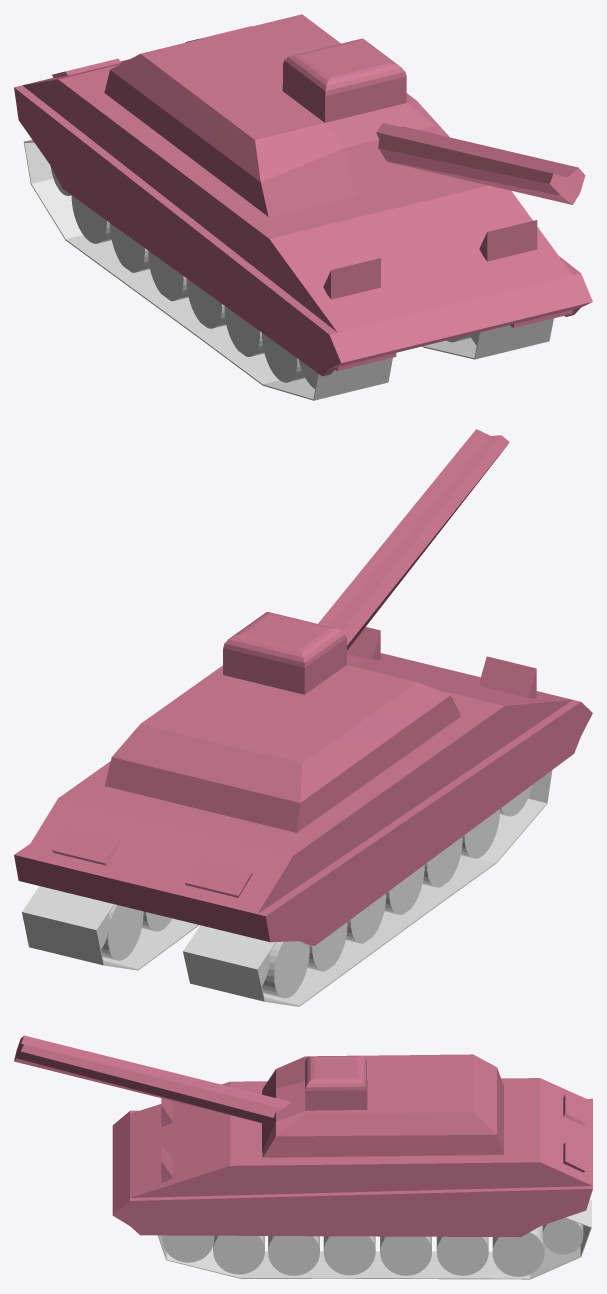
Rendered from Tank1.fbx.
The picture shows the model from 3 angles, top to bottom: view 1: azimuth 30°, elevation 25°; view 2: azimuth 150°, elevation 25°; view 3: azimuth 270°, elevation 25°; orthographic projection. The views are drawn at different scales.
Visible parts, largest first — view 1: Cube.010, Cube.009, Plane.005, Cylinder.011, Cylinder.010, Cube.007, Plane.004; view 2: Cube.010, Cube.009, Plane.005, Cylinder.011, Cylinder.010, Plane.004, Cube.008, Cube.007, Cylinder.009; view 3: Cube.010, Cube.009, Cylinder.009, Cylinder.011, Plane.004, Cube.008, Cube.007.
Boxes of the visible parts, x1,y1,x2,y2 form: Cube.010: (14,59,592,376); Cube.009: (104,14,449,216); Plane.005: (24,139,392,400); Cylinder.011: (376,123,585,204); Cylinder.010: (50,166,317,388); Cube.007: (323,220,537,299); Plane.004: (422,318,553,359); Cube.010: (14,653,592,945); Cube.009: (105,612,460,832); Plane.005: (183,770,552,1006); Cylinder.011: (318,429,509,650); Cylinder.010: (258,785,532,998); Plane.004: (22,886,199,970); Cube.008: (51,827,252,897); Cube.007: (347,627,536,698); Cylinder.009: (97,904,172,960); Cube.010: (112,1078,592,1237); Cube.009: (262,1054,503,1157); Cylinder.009: (162,1218,583,1276); Cylinder.011: (14,1035,290,1124); Plane.004: (157,1200,591,1279); Cube.008: (563,1094,585,1172); Cube.007: (161,1098,172,1182).
Size of the model in its own units: 214 by 233 by 581.
